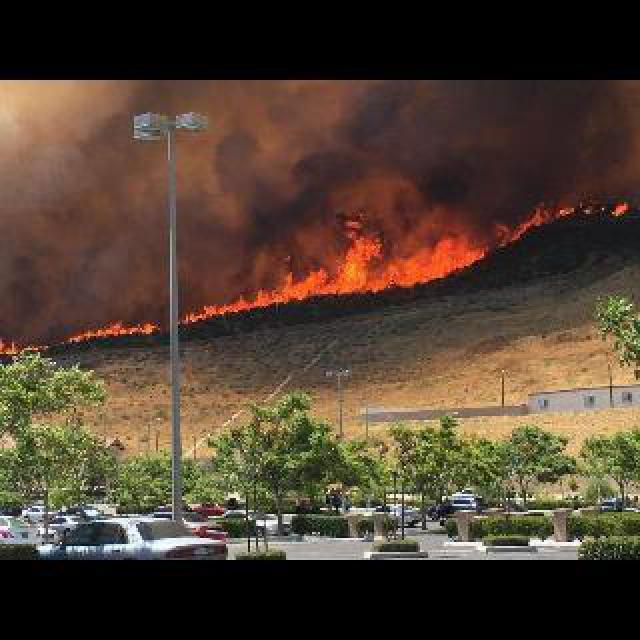fire: (180, 224, 480, 326), (2, 320, 154, 354), (534, 198, 598, 246)
